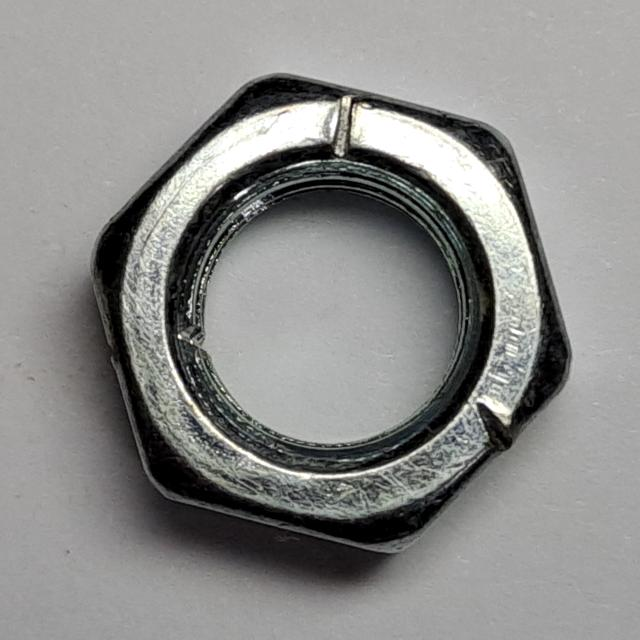Scratches: (77, 62, 588, 569)
